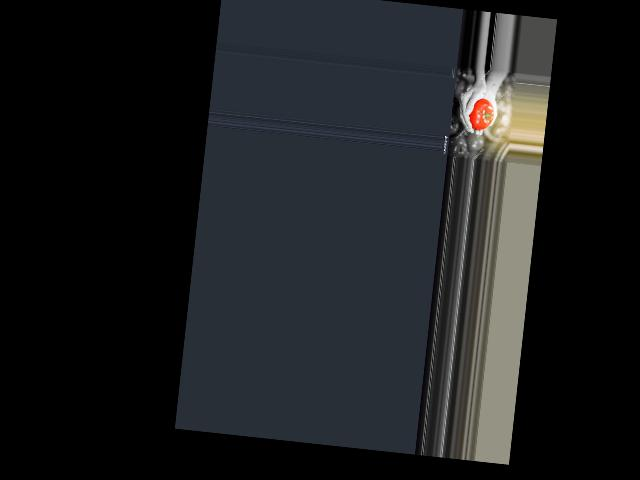tomato: (467, 96, 495, 131)
